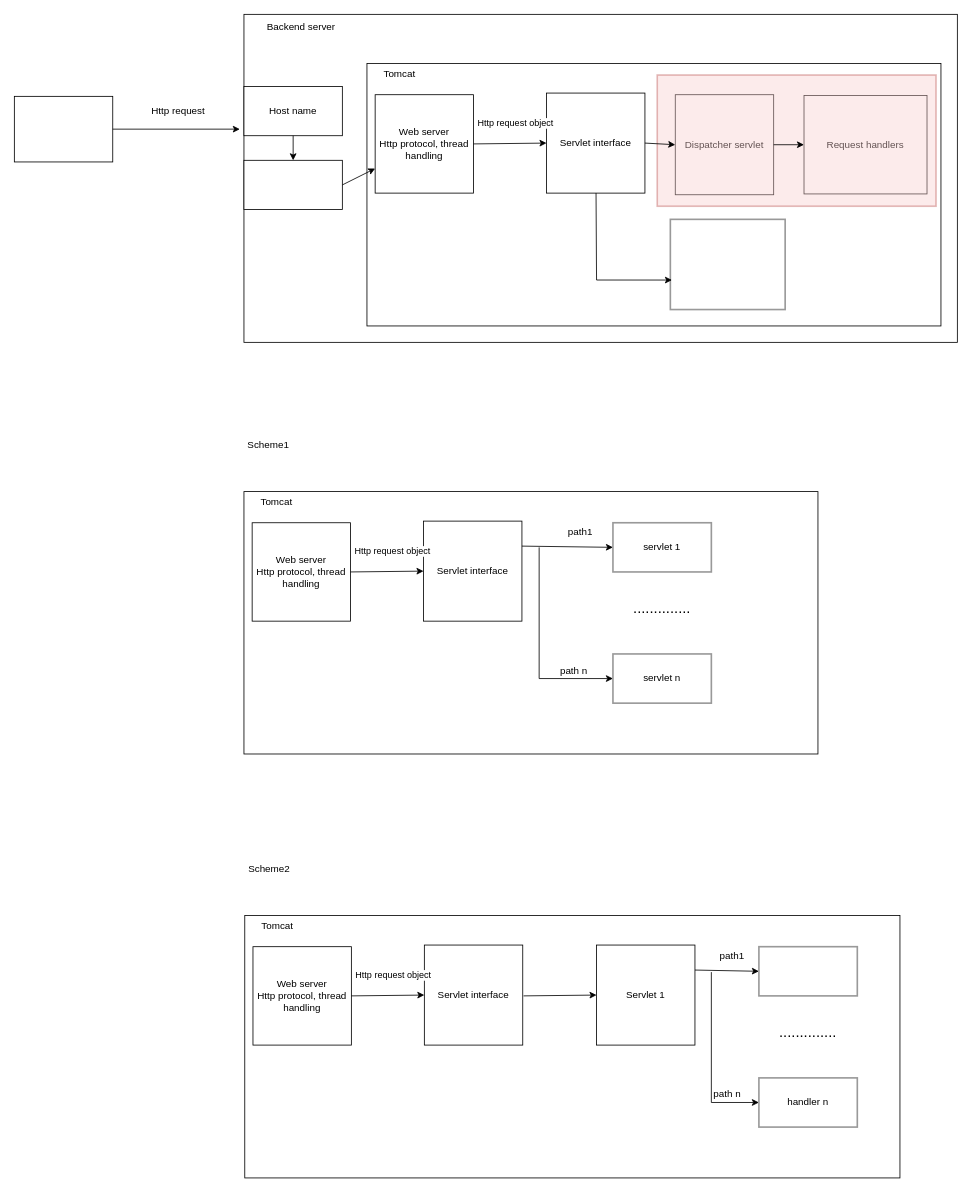
This 972x1192 diagram has some shape labels left out. Each missing label, with the box of its shape:
App port: (243, 159, 342, 210)
Front end: (14, 96, 113, 162)
handler 1: (758, 945, 858, 996)
Spring web: (656, 74, 936, 207)
Static content servlet: (669, 218, 786, 310)
